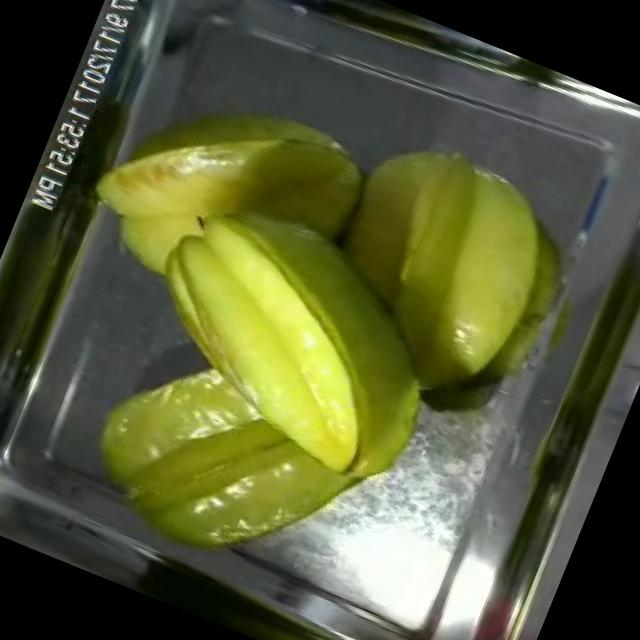fruit: (94, 166, 444, 493), (62, 43, 391, 344), (288, 106, 588, 420), (54, 321, 380, 609)
